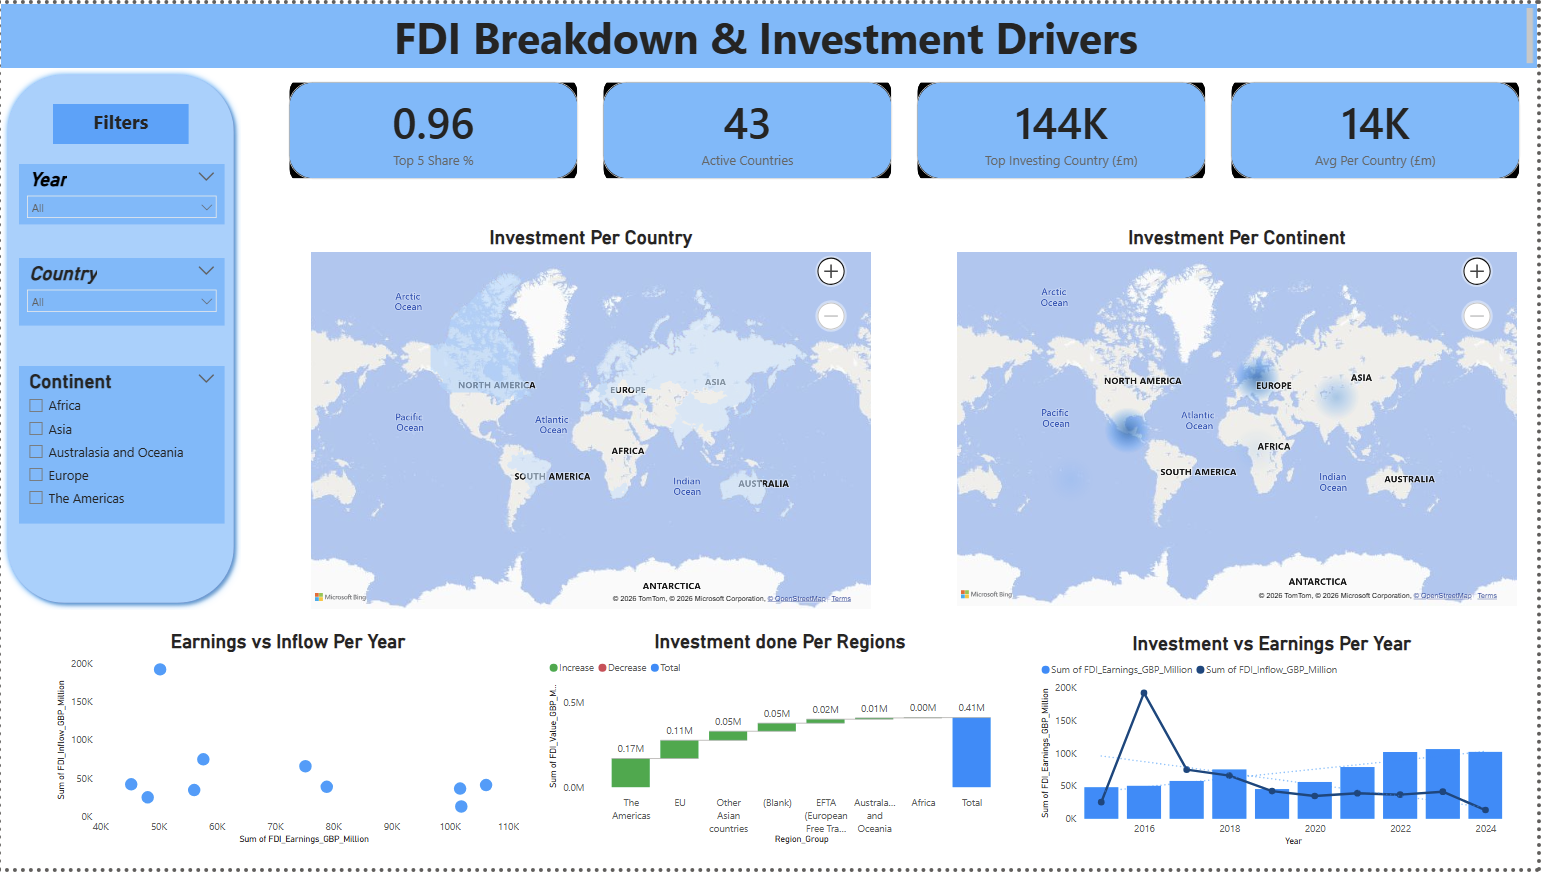

The dashboard page shown, as its layout file describes it:
{"tool":"powerbi","page":{"name":"Detailed Analysis","canvas":[1920,1080],"ordinal":1},"visuals":[{"type":"cardVisual","fields":{"Data":["Sum(Fact_FDI_By_Country.FDI_Value_GBP_Million)"]},"box":[1127.8,80,396.7,156.7],"z":0},{"type":"cardVisual","fields":{"Data":["Fact_FDI_By_Country.Active Countries"]},"box":[735.6,80,396.7,156.7],"z":1000},{"type":"cardVisual","fields":{"Data":["Avg(Fact_FDI_By_Country.FDI_Value_GBP_Million)"]},"box":[1520,80,396,156.7],"z":2000},{"type":"cardVisual","fields":{"Data":["Fact_FDI_By_Country.Top 5 Share %"]},"box":[343.3,80,396.7,156.7],"z":3000},{"type":"shape","box":[0,80,300,677.5],"z":4000},{"type":"textbox","box":[64.7,126.2,169.3,49.8],"z":5000},{"type":"slicer","fields":{"Values":["Dim_Year.Year"]},"box":[21.4,200,257.1,75.7],"z":6000},{"type":"slicer","fields":{"Values":["Fact_FDI_By_Country.Country"]},"box":[21.4,318.6,257.1,84.3],"z":6001},{"type":"slicer","fields":{"Values":["Fact_FDI_By_Country.Continent"]},"box":[21.4,451.4,257.1,197.1],"z":6002},{"type":"textbox","box":[0,0,1920,80],"z":6003},{"type":"filledMap","title":"Investment Per Country","fields":{"Category":["Fact_FDI_By_Country.Country"]},"box":[383.3,276.7,710,483.3],"z":6004},{"type":"map","title":"Investment Per Continent","fields":{"Size":["Sum(Fact_FDI_By_Country.FDI_Value_GBP_Million)"],"Category":["Fact_FDI_By_Country.Continent"]},"box":[1190,276.7,710,480],"z":6005},{"type":"lineClusteredColumnComboChart","title":"Investment vs Earnings Per Year","fields":{"Category":["Dim_Year.Year"],"Y":["Sum(Fact_FDI_Earnings.FDI_Earnings_GBP_Million)"],"Y2":["Sum(Fact_FDI_Flows.FDI_Inflow_GBP_Million)"]},"box":[1295,785,587,272.5],"z":6006},{"type":"waterfallChart","title":"Investment done Per Regions","fields":{"Y":["Sum(Fact_FDI_By_Country.FDI_Value_GBP_Million)"],"Category":["Dim_Geography.Region_Group"]},"box":[680,782.5,587.5,272.5],"z":6007},{"type":"scatterChart","title":"Earnings vs Inflow Per Year","fields":{"X":["Sum(Fact_FDI_Earnings.FDI_Earnings_GBP_Million)"],"Y":["Sum(Fact_FDI_Flows.FDI_Inflow_GBP_Million)"],"Category":["Dim_Year.Year"]},"box":[65,782.5,587.5,272.5],"z":6008}]}

Visuals, with their boxes in screenshot pixels (x1, y1, x2, y2), scaled from the page's 1920x1080 canvas onto the 1542x872 screenshot:
cardVisual - Sum(Fact_FDI_By_Country.FDI_Value_GBP_Million): l=906, t=65, r=1224, b=191
cardVisual - Fact_FDI_By_Country.Active Countries: l=591, t=65, r=909, b=191
cardVisual - Avg(Fact_FDI_By_Country.FDI_Value_GBP_Million): l=1221, t=65, r=1539, b=191
cardVisual - Fact_FDI_By_Country.Top 5 Share %: l=276, t=65, r=594, b=191
shape: l=0, t=65, r=241, b=612
textbox: l=52, t=102, r=188, b=142
slicer - Dim_Year.Year: l=17, t=161, r=224, b=223
slicer - Fact_FDI_By_Country.Country: l=17, t=257, r=224, b=325
slicer - Fact_FDI_By_Country.Continent: l=17, t=364, r=224, b=524
textbox: l=0, t=0, r=1541, b=65
"Investment Per Country" filledMap: l=308, t=223, r=878, b=614
"Investment Per Continent" map: l=956, t=223, r=1526, b=611
"Investment vs Earnings Per Year" lineClusteredColumnComboChart: l=1040, t=634, r=1511, b=854
"Investment done Per Regions" waterfallChart: l=546, t=632, r=1018, b=852
"Earnings vs Inflow Per Year" scatterChart: l=52, t=632, r=524, b=852
